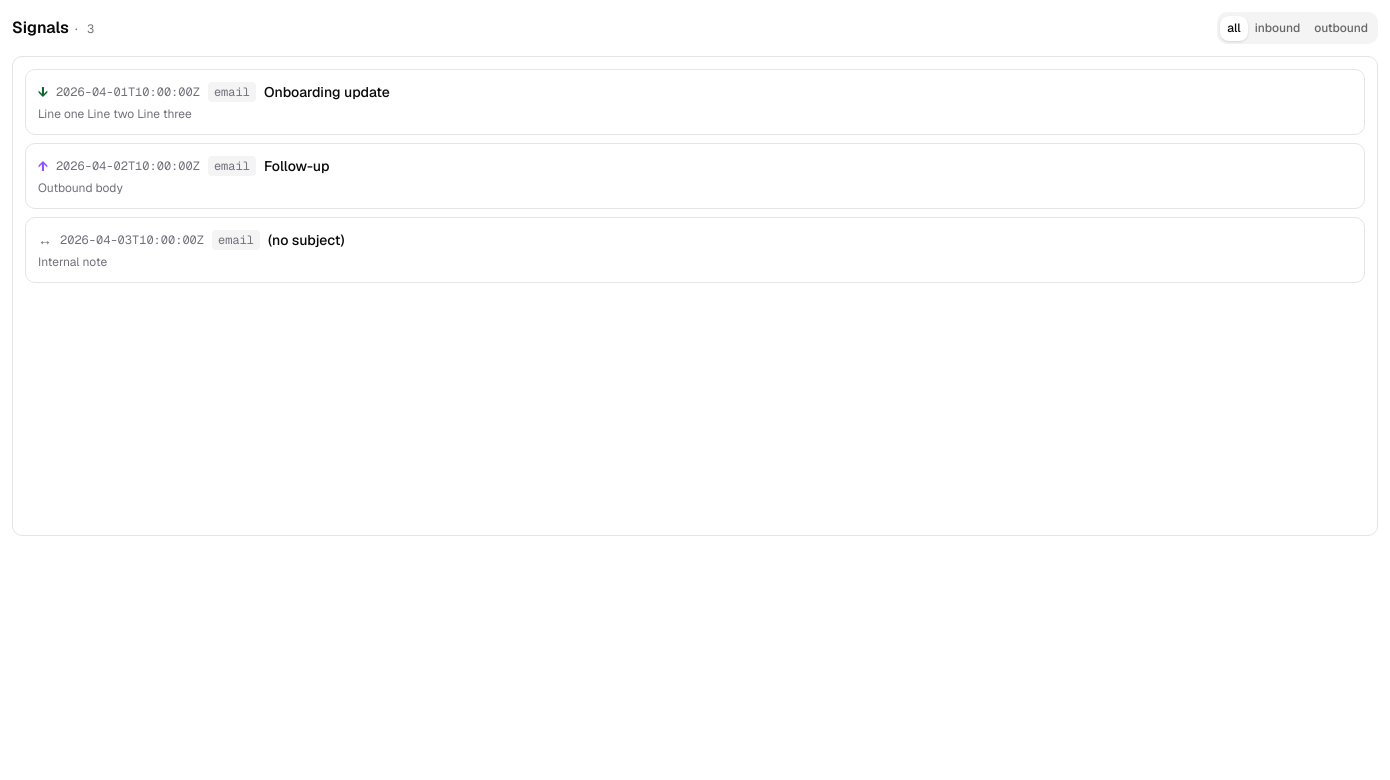
Test: SignalsTimeline › INBOUND filter hides outbound signals
The image size is (1390, 780).
Click the tab "inbound": (1277, 28) [1248,16,1307,40]
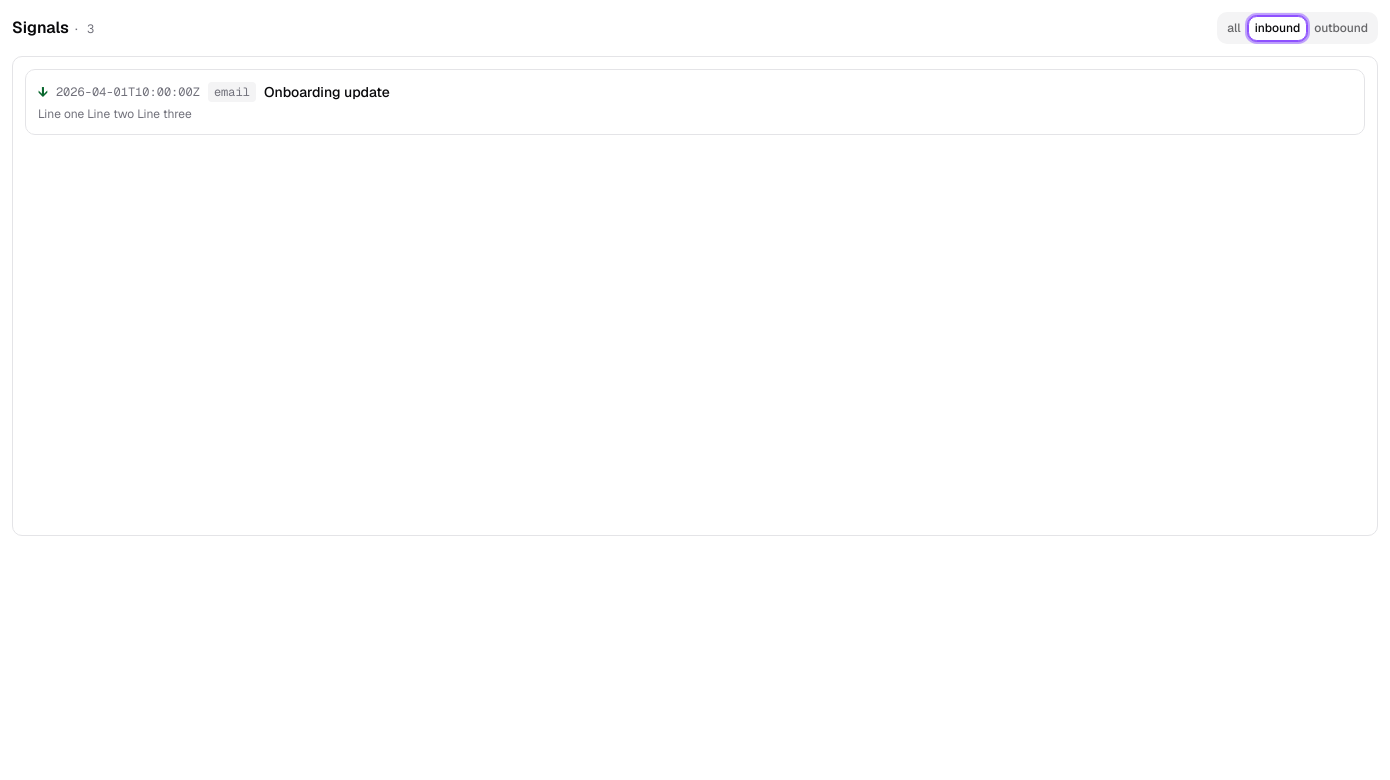
expect the text "Onboarding update" is shown: met, box [264,82,390,102]
expect the text "Follow-up" is gone: met
